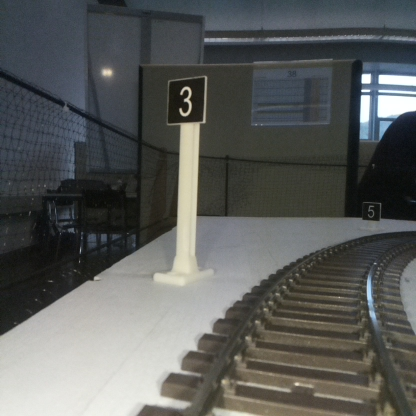black-info-3: (168, 77, 204, 281)
black-stop-5: (362, 203, 380, 230)
